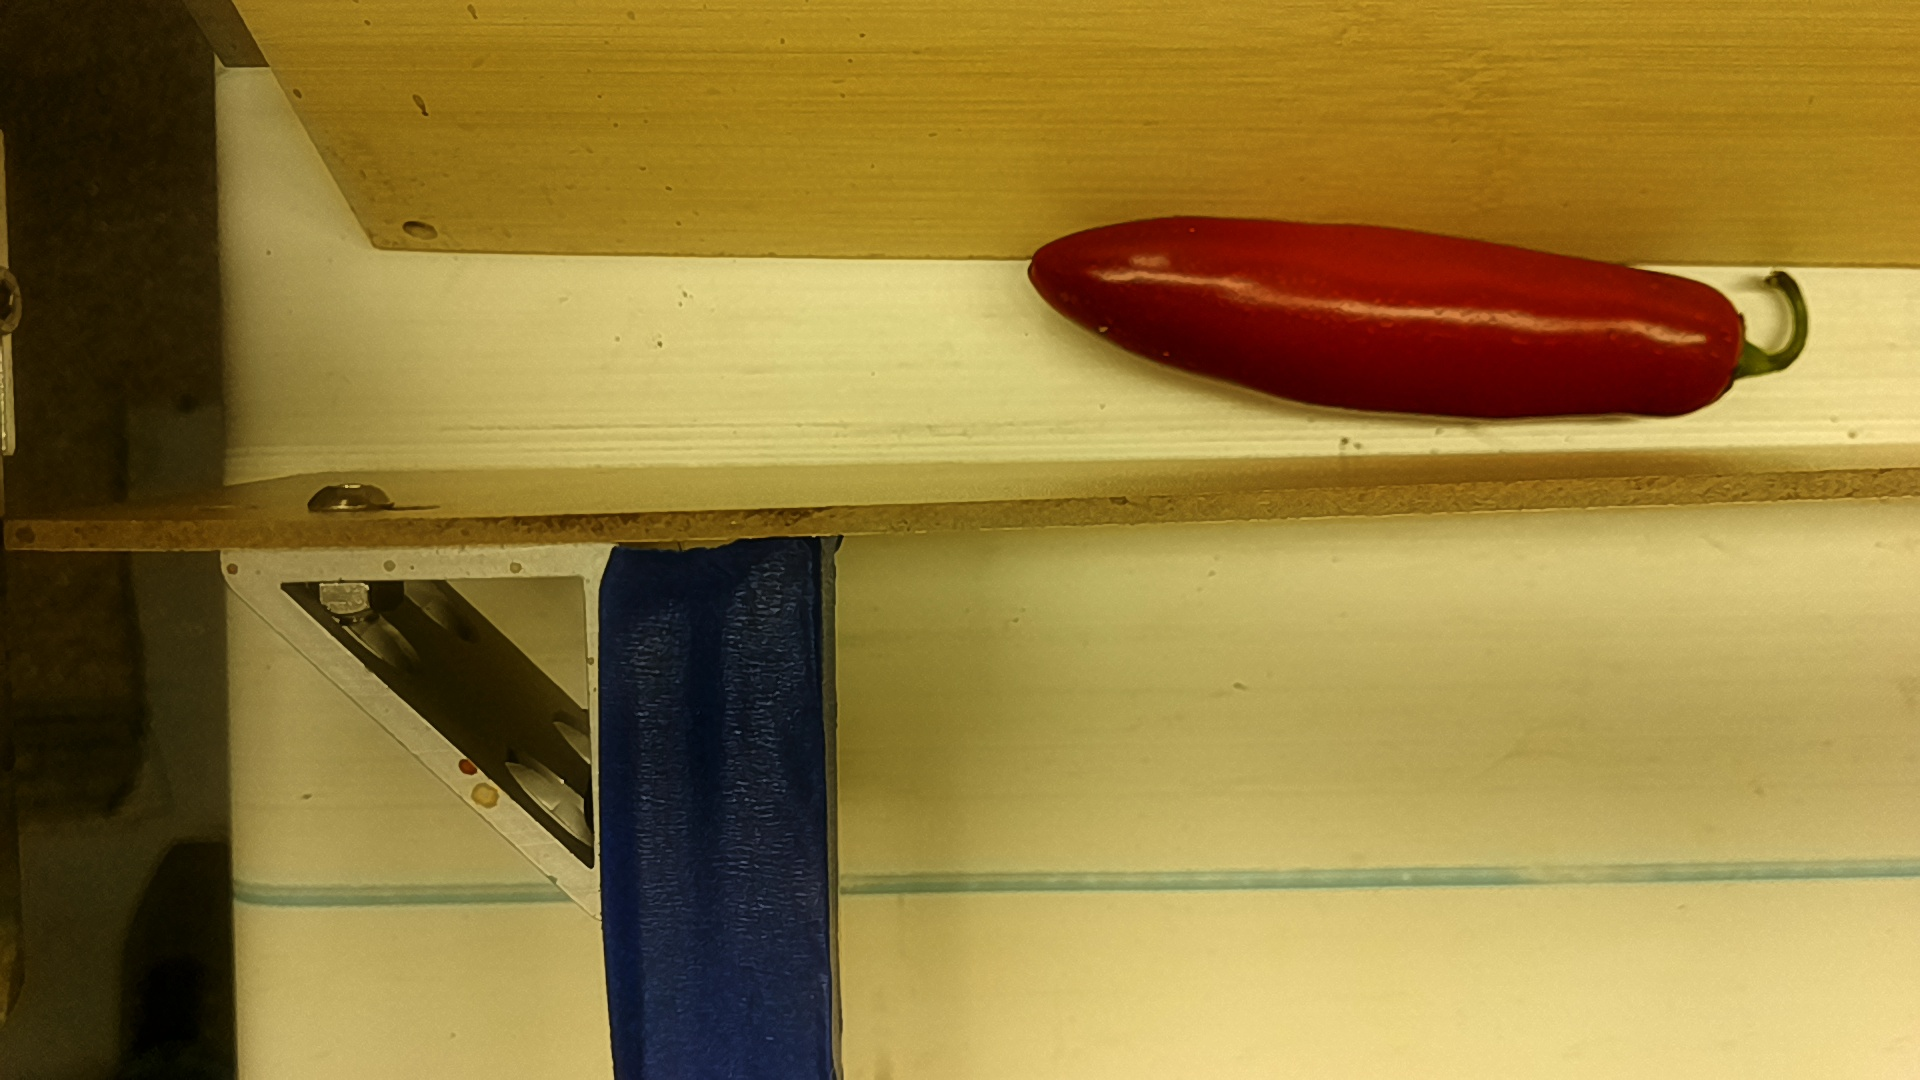Cut Point: (1697, 274, 1764, 422)
